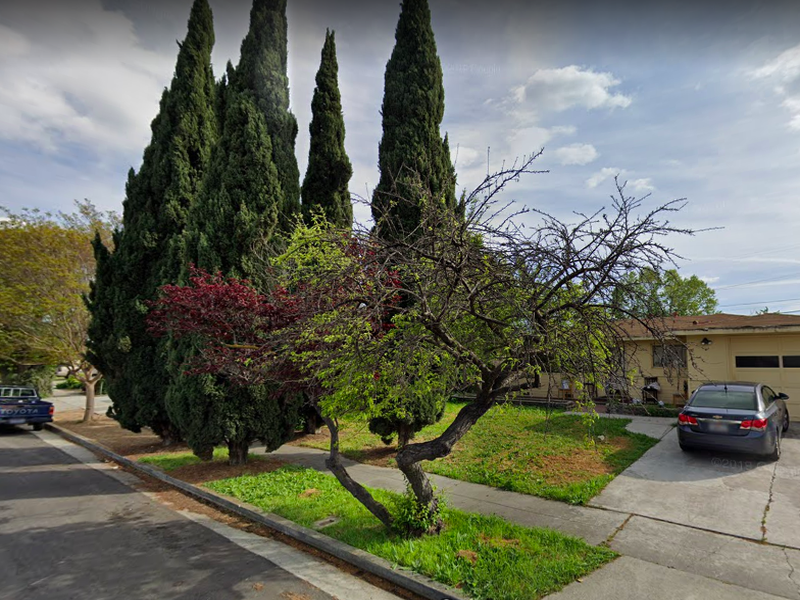tree: (140, 145, 727, 542)
